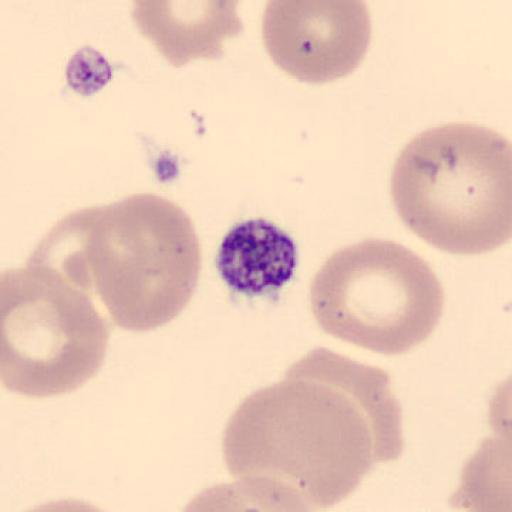Platelet: (213, 215, 306, 308), (52, 44, 130, 104), (142, 145, 196, 192)
RBC: (219, 376, 377, 510), (81, 190, 205, 334), (388, 120, 511, 257), (307, 237, 447, 357), (0, 264, 110, 399), (286, 344, 402, 470), (17, 200, 127, 332), (260, 0, 374, 87), (130, 0, 244, 69)
